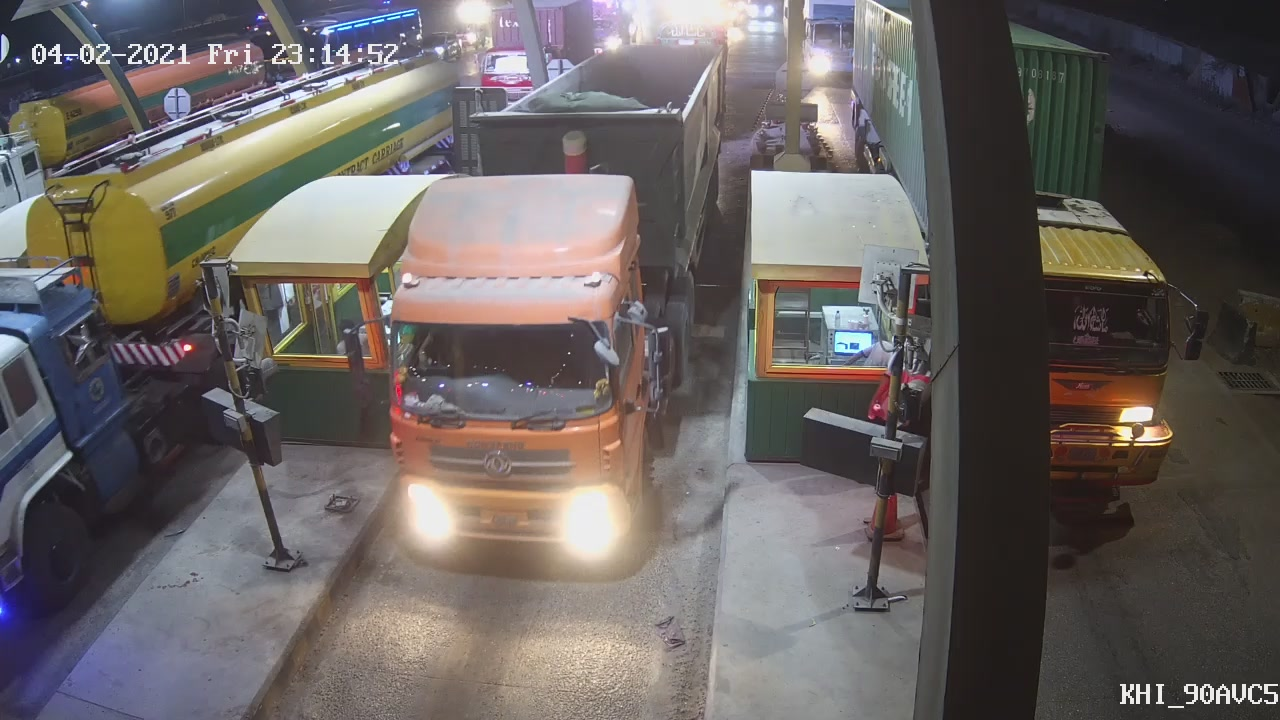F6: (346, 36, 727, 561)
